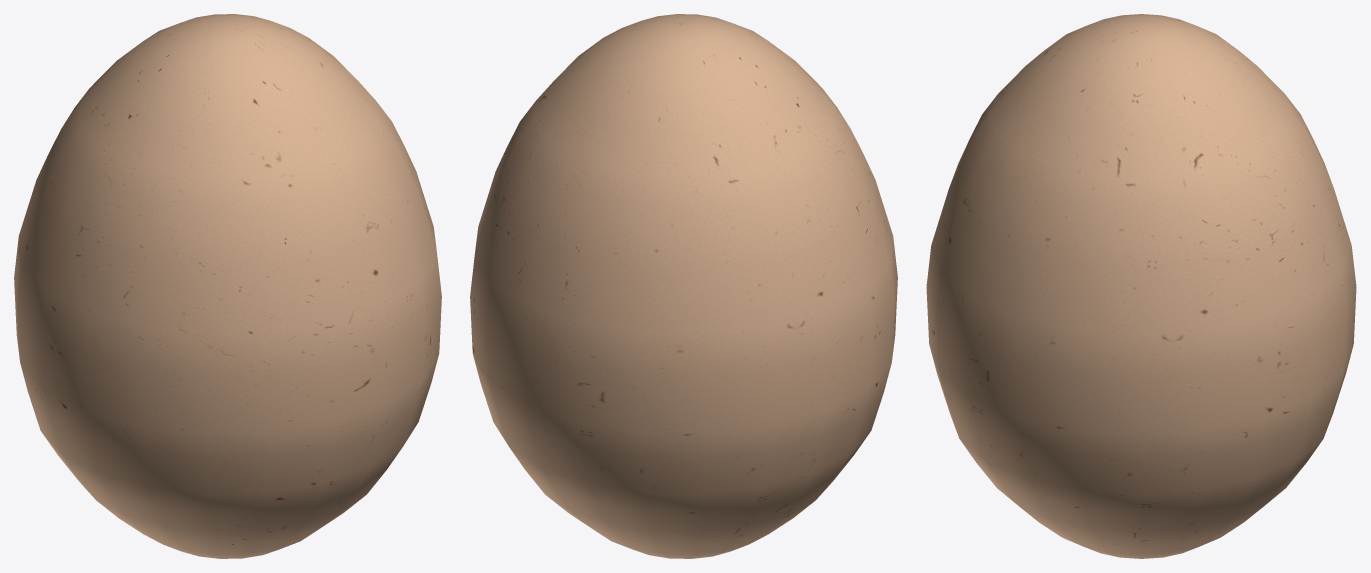
The model's file is Egg.fbx.
3 views of the same model, side by side, from view 1: azimuth 30°, elevation 25°; view 2: azimuth 150°, elevation 25°; view 3: azimuth 270°, elevation 25° (orthographic).
Parts seen in each view (by area): view 1: Egg1; view 2: Egg1; view 3: Egg1.
Boxes of the visible parts, x1,y1,x2,y2 form: Egg1: [14, 14, 441, 558]; Egg1: [470, 14, 897, 558]; Egg1: [926, 14, 1356, 558].
Bounding box in the file's own units: 10.38 × 13.75 × 10.38.
